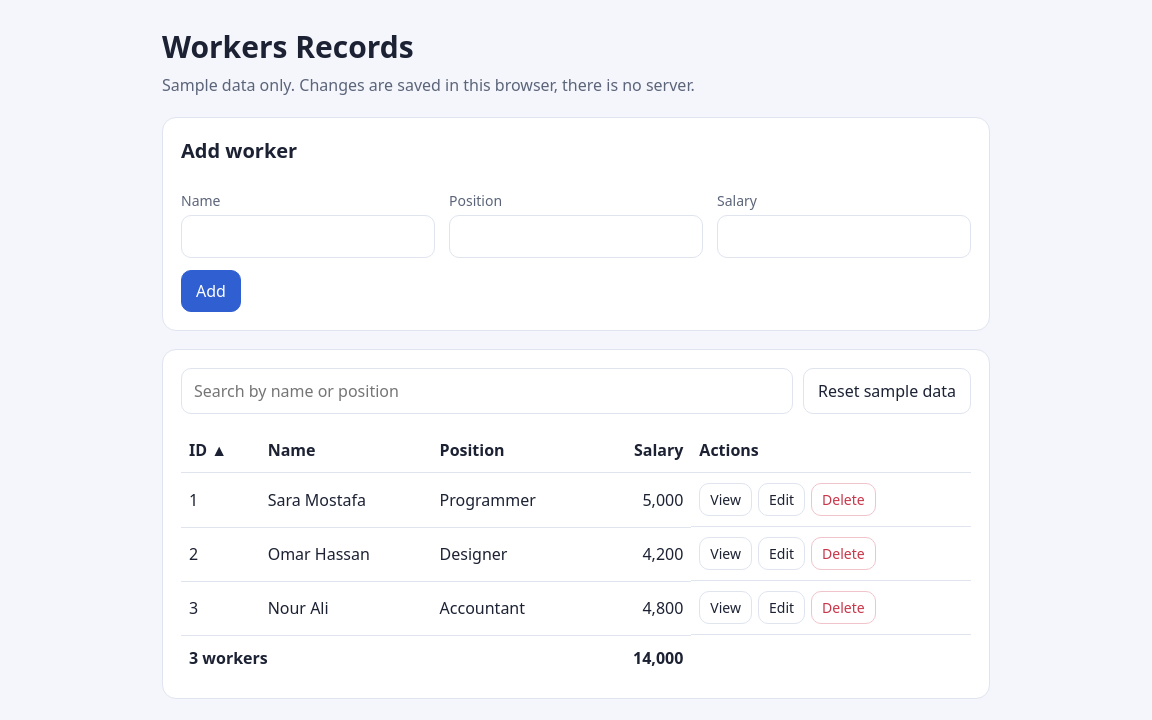
Scenario: App › deletes a worker after confirm, and keeps it when cancelled
This screenshot has width=1152, height=720.
Click the button with aria-label "Delete Nour Ali" at (843, 608), box [811,591,876,624]
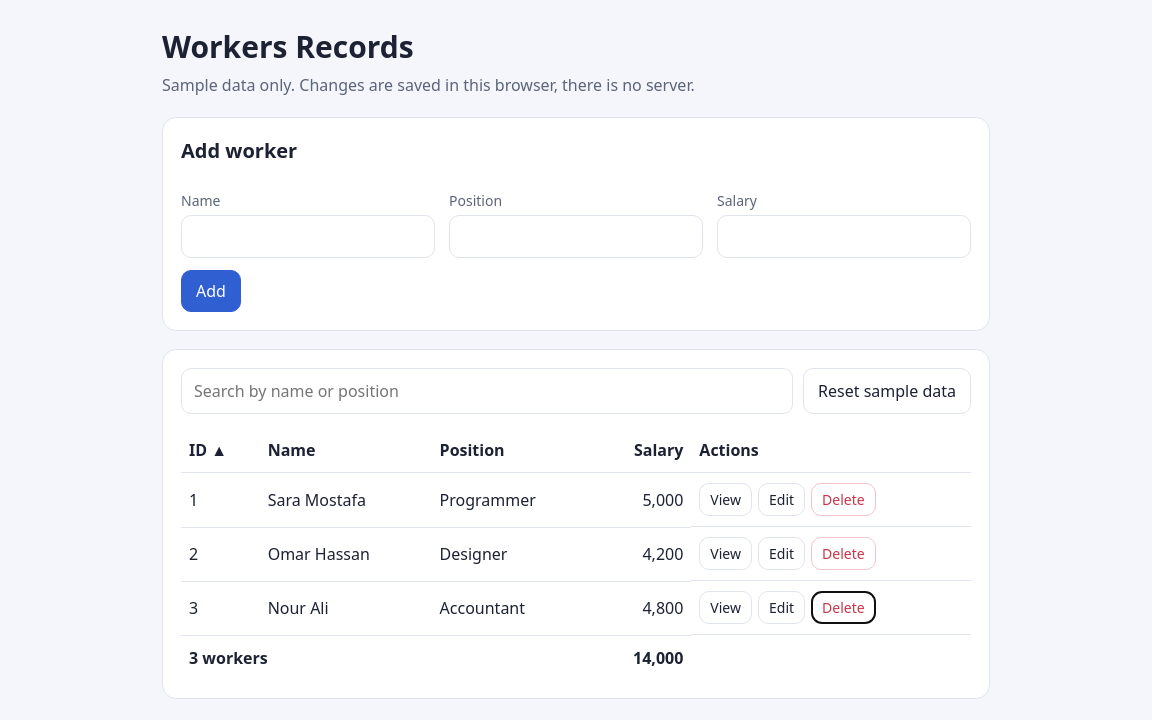
Expected: the text "Nour Ali" is shown, [260,581,432,635]
Click the button with aria-label "Delete Nour Ali" at (843, 608), box [811,591,876,624]
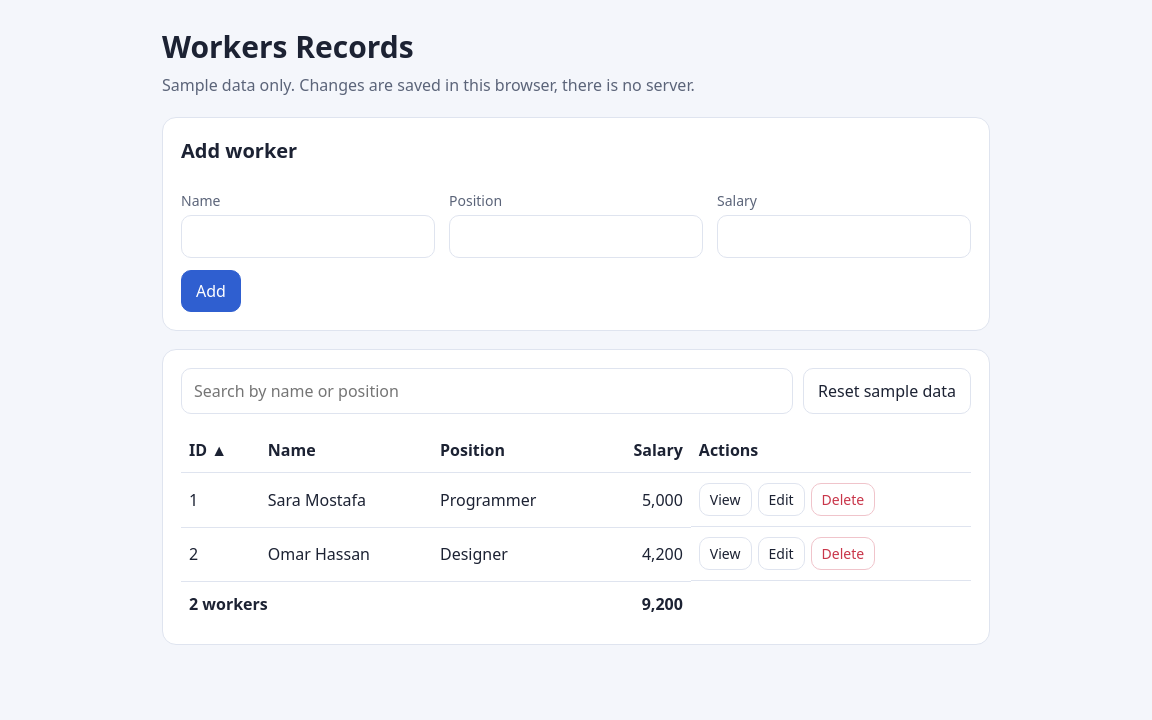
Result: the text "Nour Ali" is gone
Result: the text "2 workers" is shown at [181,581,596,626]
